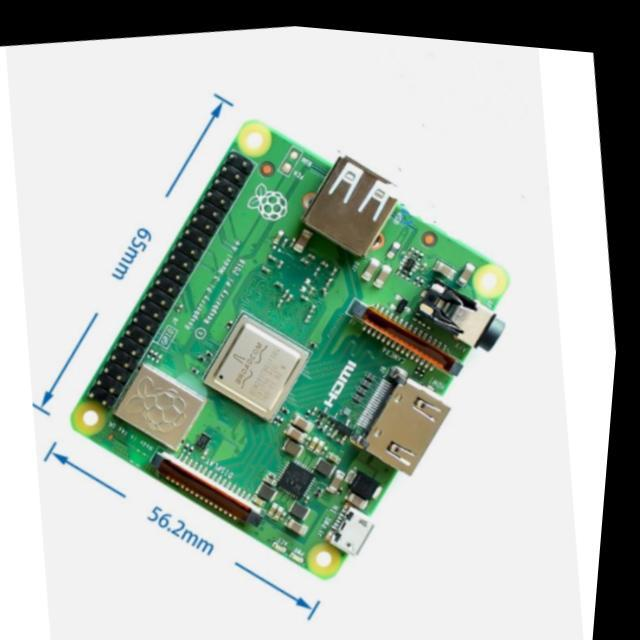Raspberry-Pi-3-A-: (73, 121, 509, 578)
